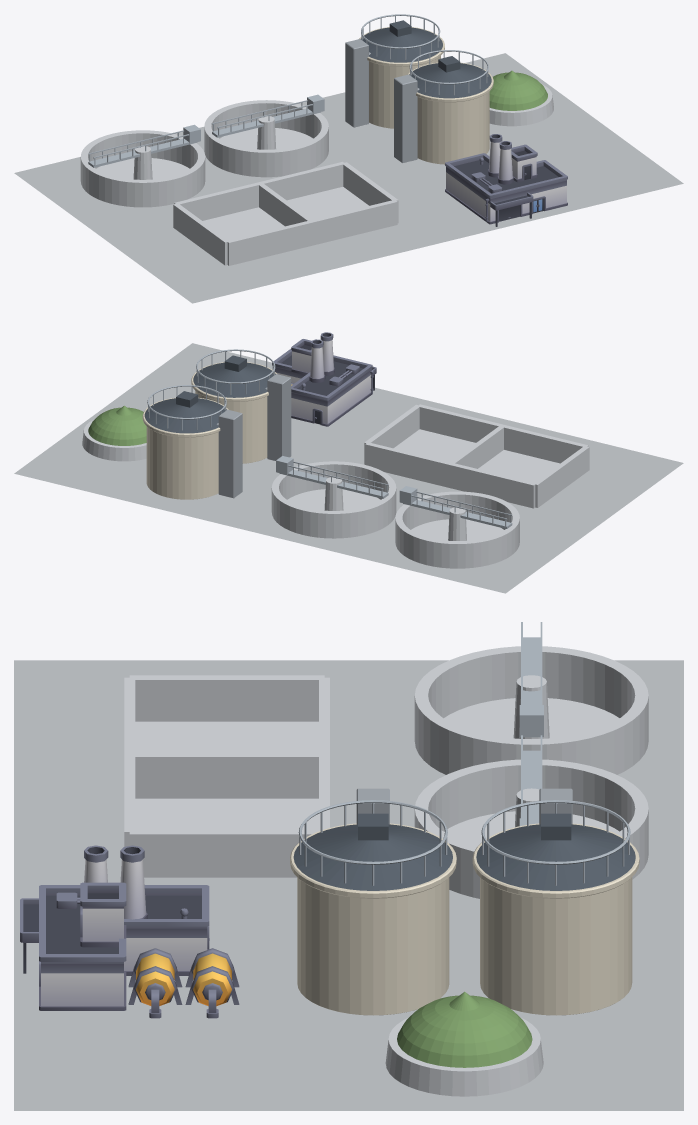
Rendered from treatment-plant.glb.
3 views of the same model, one above another, from view 1: azimuth 30°, elevation 25°; view 2: azimuth 150°, elevation 25°; view 3: azimuth 270°, elevation 25° (orthographic). The views are drawn at different scales.
Parts seen in each view (by area): view 1: PlantYard, AerationBasin, Clarifier_0, Clarifier_1, building-c, Digester_1, DigesterRoof_1, DigesterRoof_0, Digester_0, DigesterStair_0, DigesterStair_1, GasHolderMembrane (+5 smaller); view 2: PlantYard, AerationBasin, Clarifier_1, Clarifier_0, building-c, Digester_0, DigesterRoof_0, Digester_1, DigesterRoof_1, DigesterStair_0, DigesterStair_1, GasHolderMembrane (+5 smaller); view 3: PlantYard, AerationBasin, building-c, Clarifier_0, Digester_1, Digester_0, Clarifier_1, DigesterRoof_1, DigesterRoof_0, GasHolderMembrane, GasHolderBase, ClarifierBridgeMesh_0 (+5 smaller).
Boxes of the visible parts, x1,y1,x2,y2 form: PlantYard: (14,53,683,303); AerationBasin: (173,161,398,265); Clarifier_0: (80,130,205,207); Clarifier_1: (204,100,328,177); building-c: (445,134,567,226); Digester_1: (408,62,493,164); DigesterRoof_1: (409,56,491,98); DigesterRoof_0: (360,20,442,62); Digester_0: (359,27,444,128); DigesterStair_0: (345,39,370,127); DigesterStair_1: (394,74,419,162); GasHolderMembrane: (489,70,547,110); PlantYard: (14,343,683,593); AerationBasin: (364,404,589,508); Clarifier_1: (271,461,396,538); Clarifier_0: (395,491,519,568); building-c: (272,332,376,426); Digester_0: (142,397,228,499); DigesterRoof_0: (144,391,226,433); Digester_1: (191,362,276,463); DigesterRoof_1: (193,355,275,397); DigesterStair_0: (217,409,242,498); DigesterStair_1: (265,374,291,460); GasHolderMembrane: (88,405,146,445); PlantYard: (14,660,683,1110); AerationBasin: (124,675,329,877); building-c: (20,845,239,1018); Clarifier_0: (414,646,648,774); Digester_1: (290,823,456,1015); Digester_0: (472,823,639,1015); Clarifier_1: (414,759,648,898); DigesterRoof_1: (293,813,452,890); DigesterRoof_0: (476,813,635,890); GasHolderMembrane: (397,991,532,1067); GasHolderBase: (385,1017,543,1096); ClarifierBridgeMesh_0: (519,622,543,737).
Bounding box in the file's own units: 17.5 × 2.98 × 11.
3 materials, 3 textured.
